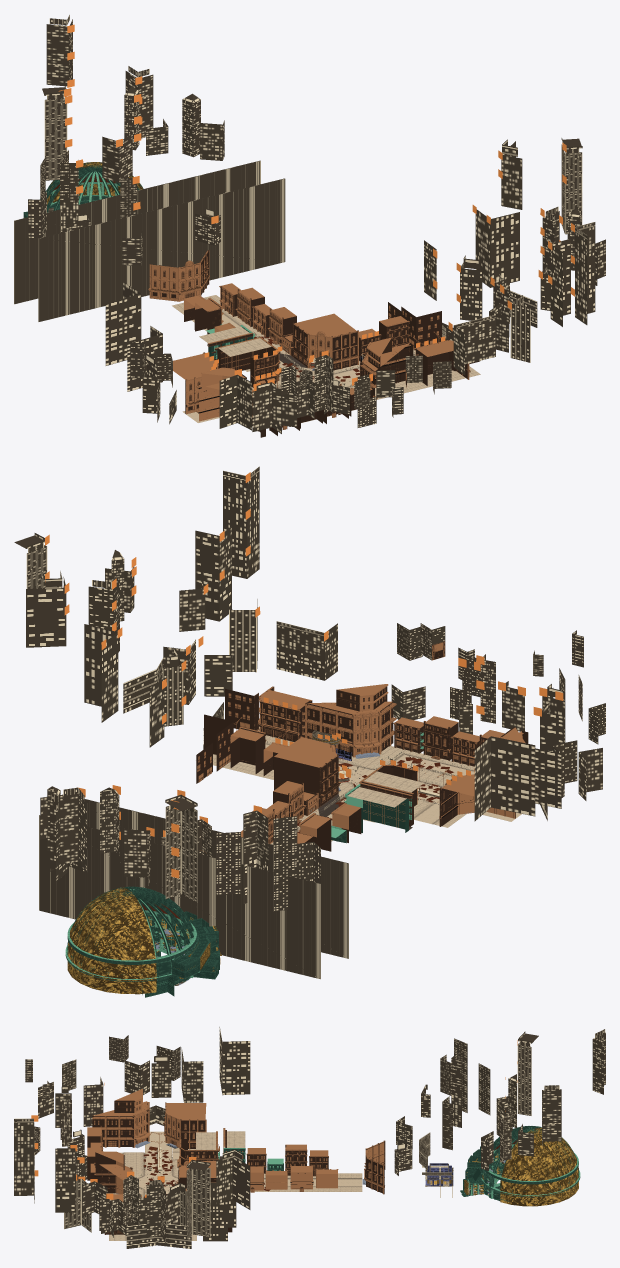
File: ca03-color.glb
3 renders of one model, top to bottom at view 1: azimuth 30°, elevation 25°; view 2: azimuth 150°, elevation 25°; view 3: azimuth 270°, elevation 25°, orthographic. The views are drawn at different scales.
Parts seen in each view (by area): view 1: world_13_mesh_1, world_18_mesh_3, world_9_mesh_2, world_18_mesh_0, world_10_mesh_2, world_13_mesh_0, world_14_mesh_1, world_8_mesh_0, world_9_mesh_4, world_14_mesh_0; view 2: world_13_mesh_1, world_18_mesh_1, world_10_mesh_2, world_9_mesh_2, world_8_mesh_1, world_18_mesh_2, world_8_mesh_0, world_13_mesh_0, world_14_mesh_1, world_7_mesh_2, world_9_mesh_0, world_14_mesh_0 (+3 smaller); view 3: world_13_mesh_1, world_10_mesh_2, world_9_mesh_2, world_8_mesh_1, world_14_mesh_0, world_14_mesh_1, world_8_mesh_0, world_9_mesh_4, world_5_mesh_1, world_7_mesh_2, world_114_mesh_9, world_17_mesh_0 (+3 smaller).
Boxes of the visible parts, x1=… form: world_13_mesh_1: x1=28, y1=14, x2=605, y2=433; world_18_mesh_3: x1=38, y1=178, x2=285, y2=321; world_9_mesh_2: x1=148, y1=250, x2=410, y2=387; world_18_mesh_0: x1=14, y1=161, x2=260, y2=304; world_10_mesh_2: x1=173, y1=337, x2=470, y2=437; world_13_mesh_0: x1=388, y1=302, x2=479, y2=387; world_14_mesh_1: x1=172, y1=295, x2=480, y2=427; world_8_mesh_0: x1=40, y1=162, x2=143, y2=212; world_9_mesh_4: x1=199, y1=326, x2=271, y2=356; world_14_mesh_0: x1=182, y1=314, x2=415, y2=422; world_13_mesh_1: x1=14, y1=466, x2=605, y2=911; world_18_mesh_1: x1=39, y1=815, x2=320, y2=979; world_10_mesh_2: x1=258, y1=684, x2=528, y2=826; world_9_mesh_2: x1=230, y1=726, x2=418, y2=851; world_8_mesh_1: x1=67, y1=887, x2=210, y2=994; world_18_mesh_2: x1=84, y1=799, x2=348, y2=958; world_8_mesh_0: x1=67, y1=886, x2=196, y2=976; world_13_mesh_0: x1=196, y1=641, x2=445, y2=783; world_14_mesh_1: x1=213, y1=726, x2=474, y2=844; world_7_mesh_2: x1=147, y1=911, x2=219, y2=979; world_9_mesh_0: x1=331, y1=784, x2=411, y2=843; world_14_mesh_0: x1=265, y1=744, x2=521, y2=825; world_13_mesh_1: x1=14, y1=1027, x2=605, y2=1248; world_10_mesh_2: x1=87, y1=1089, x2=206, y2=1234; world_9_mesh_2: x1=176, y1=1128, x2=385, y2=1194; world_8_mesh_1: x1=500, y1=1127, x2=578, y2=1206; world_14_mesh_0: x1=120, y1=1131, x2=362, y2=1194; world_14_mesh_1: x1=108, y1=1147, x2=362, y2=1240; world_8_mesh_0: x1=484, y1=1126, x2=578, y2=1193; world_9_mesh_4: x1=196, y1=1131, x2=245, y2=1149; world_5_mesh_1: x1=481, y1=1159, x2=580, y2=1201; world_7_mesh_2: x1=465, y1=1146, x2=497, y2=1192; world_114_mesh_9: x1=425, y1=1163, x2=453, y2=1186; world_17_mesh_0: x1=143, y1=1146, x2=270, y2=1197.
Size of the model in its own units: 336 by 133 by 430.
159 materials, 159 textured.
